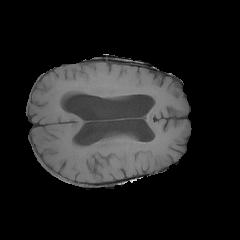glioma: (58, 79, 159, 108)
